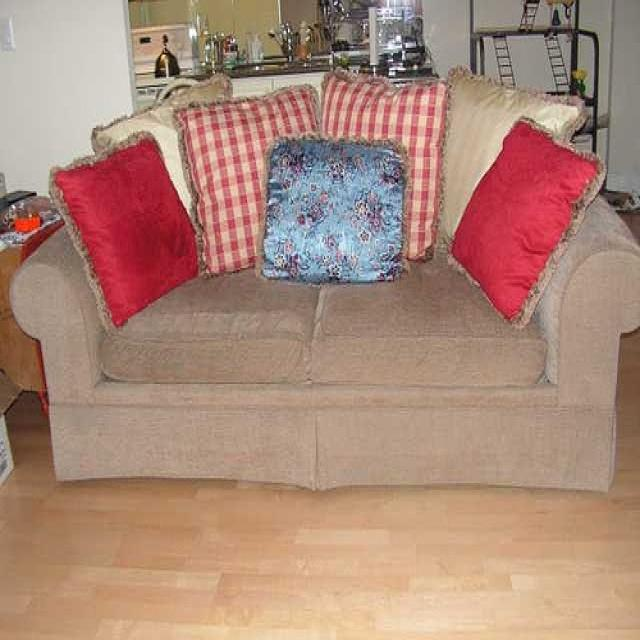sofa: (9, 77, 639, 491)
